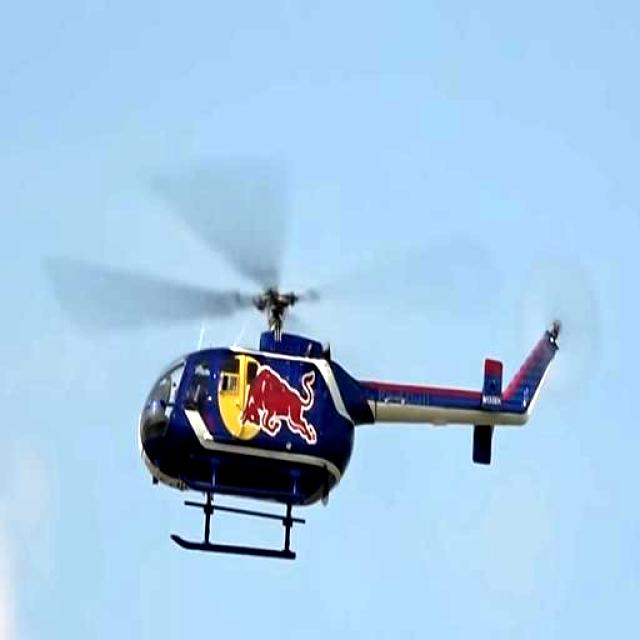drone: (105, 129, 580, 566)
